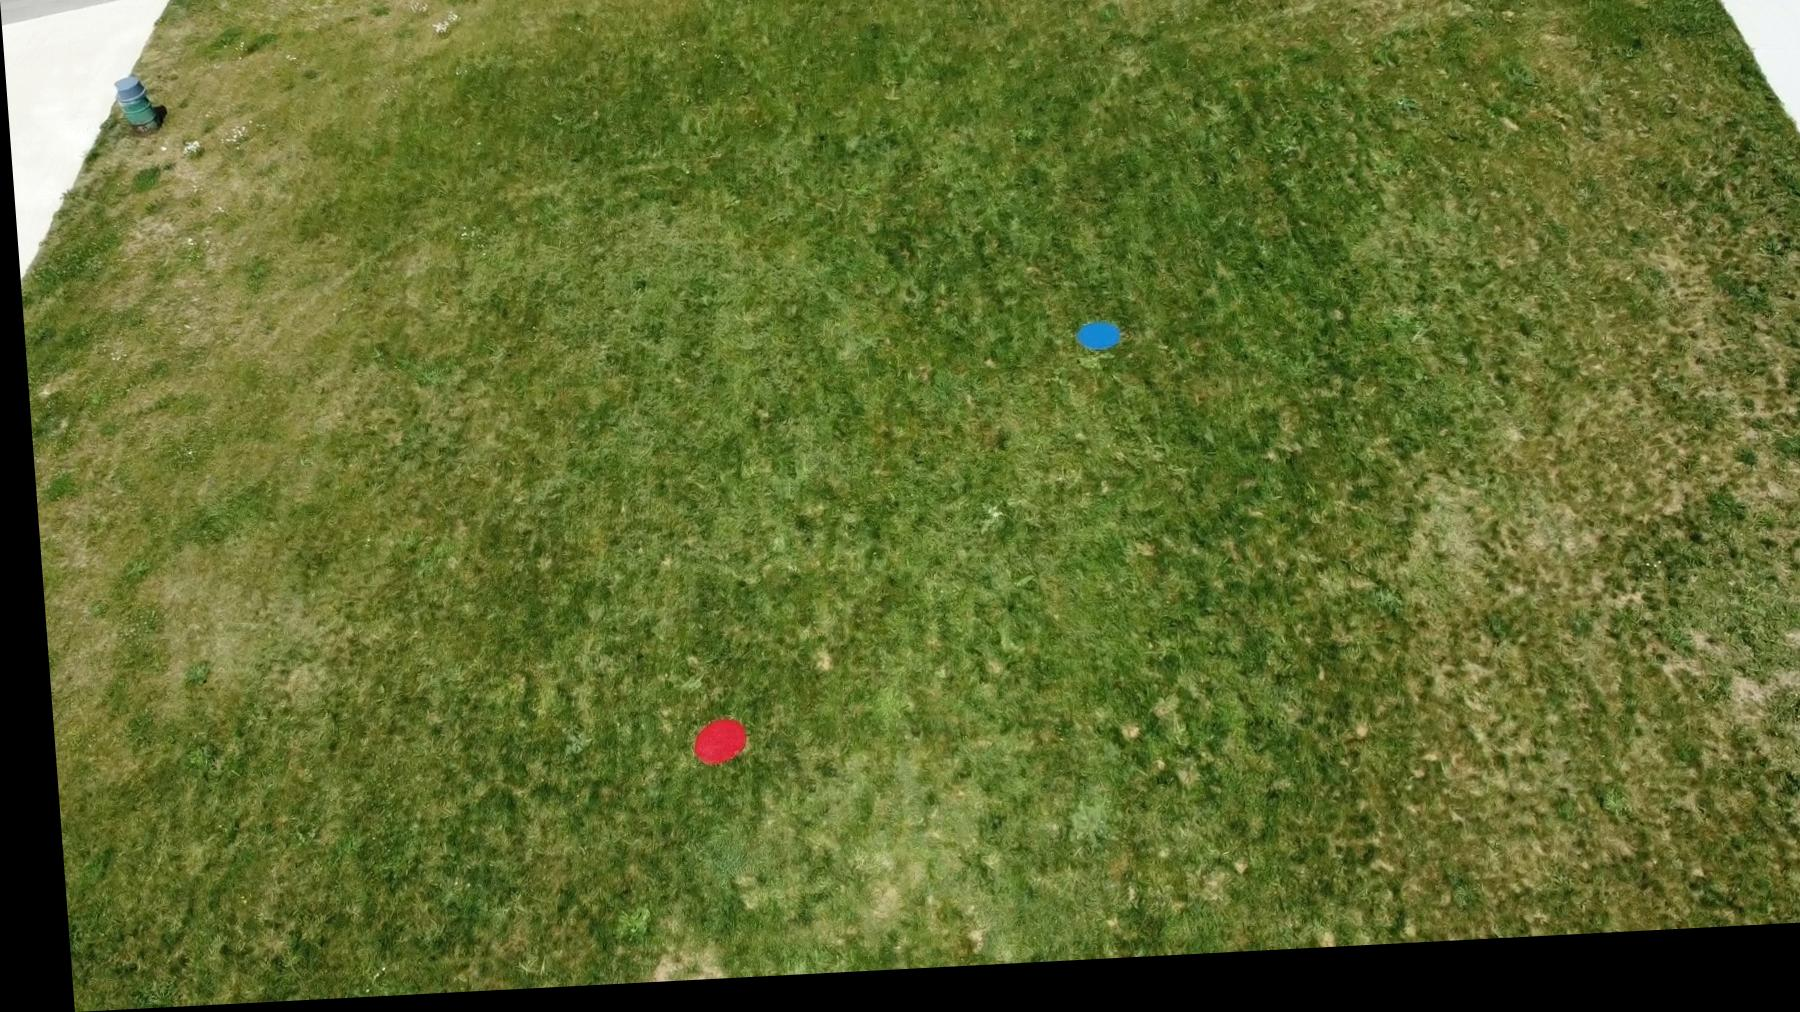Blue: (1068, 329, 1118, 365)
Red: (675, 724, 739, 776)
